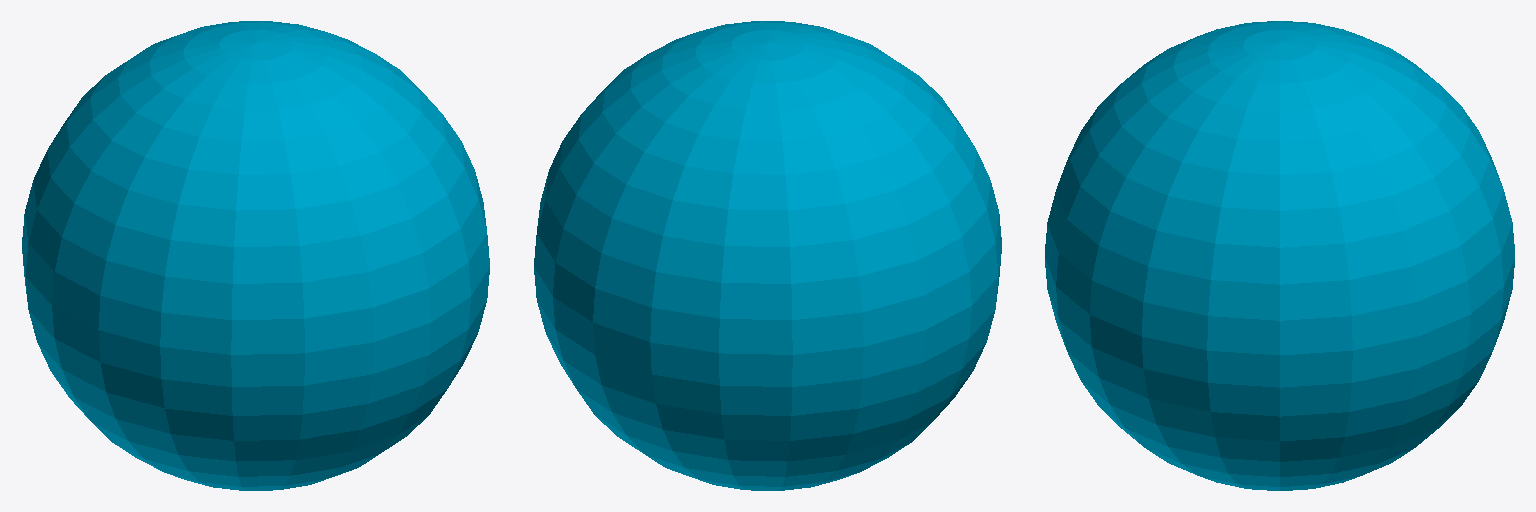
Rendered from teleport.obj.
3 views of the same model, side by side, from view 1: azimuth 30°, elevation 25°; view 2: azimuth 150°, elevation 25°; view 3: azimuth 270°, elevation 25° (orthographic).
Visible parts, largest first — view 1: pSphere1; view 2: pSphere1; view 3: pSphere1.
Part boxes in pixels (left/top/right/bottom): pSphere1: left=22, top=21, right=489, bottom=490; pSphere1: left=534, top=21, right=1001, bottom=490; pSphere1: left=1045, top=21, right=1514, bottom=490.
Size of the model in its own units: 1.13 by 1.13 by 1.13.